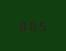eight: (18, 20, 26, 31), (28, 20, 36, 31)
five: (37, 20, 45, 31)
